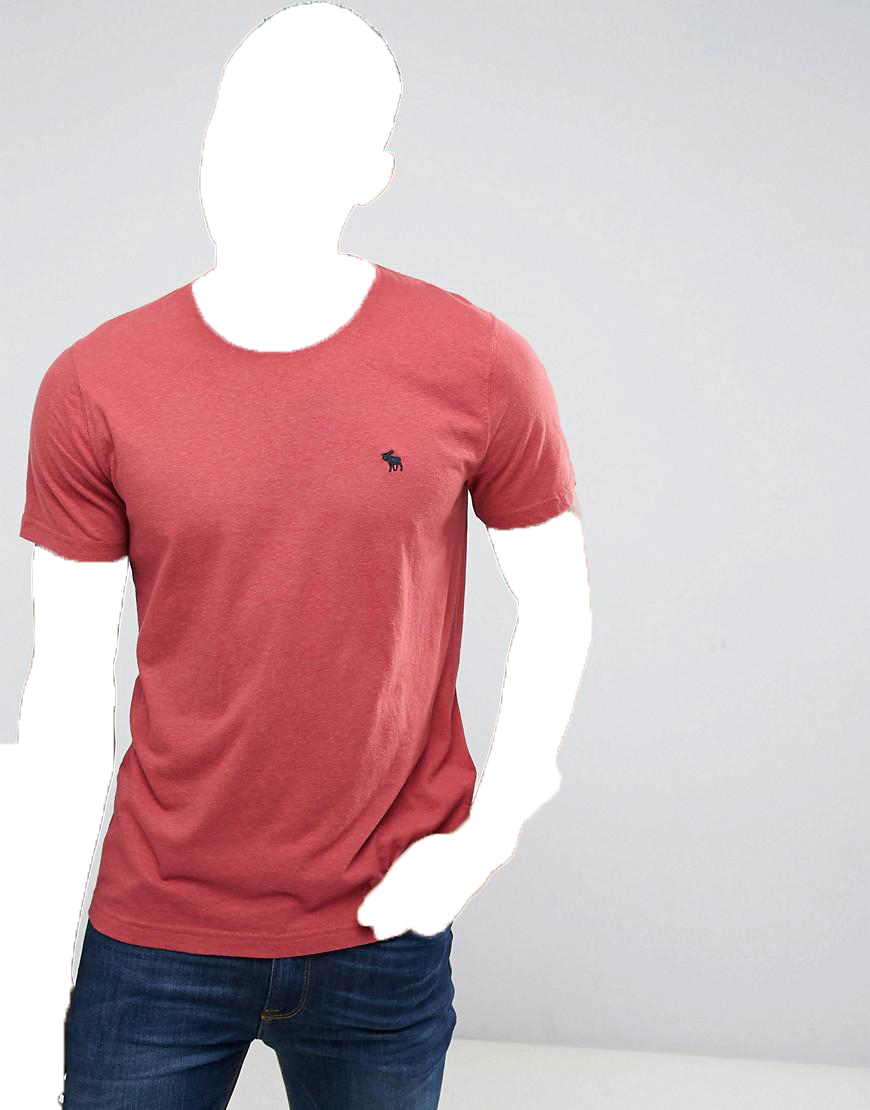teeshirt: (12, 261, 586, 971)
